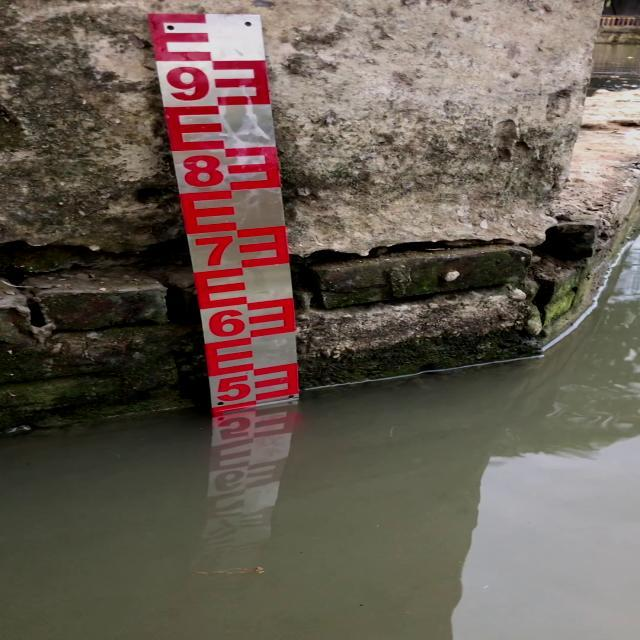ruler: (142, 1, 321, 424)
value: (156, 61, 220, 109), (176, 148, 233, 196), (188, 230, 242, 272), (200, 303, 252, 341), (210, 372, 259, 406)
